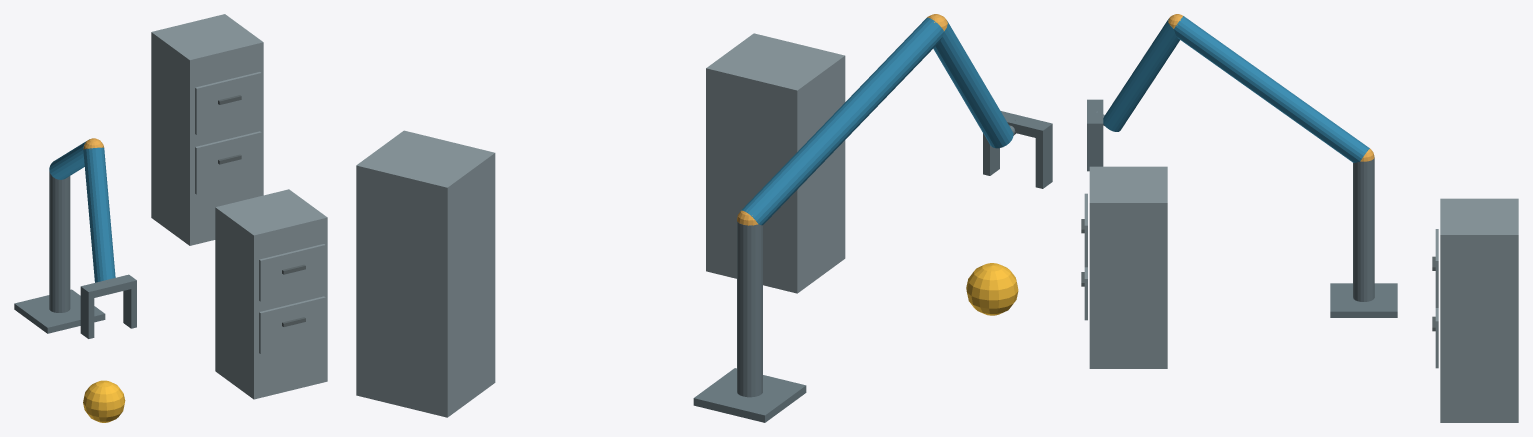
3 renders of one model, left to right at view 1: azimuth 30°, elevation 25°; view 2: azimuth 150°, elevation 25°; view 3: azimuth 270°, elevation 25°, orthographic. The views are drawn at different scales.
Parts seen in each view (by area): view 1: cabinet_2 body, cabinet_1 body, cabinet_2 drawer front, cabinet_2 drawer front.001, fixed post, moving link 2, cabinet_1 drawer front, cabinet_1 drawer front.001, pedestal, ball ball_1, gripper bridge, moving link 1 (+2 smaller); view 2: cabinet_2 body, cabinet_1 body, moving link 1, fixed post, moving link 2, pedestal, ball ball_1, gripper finger -1, gripper bridge; view 3: cabinet_2 body, cabinet_1 body, moving link 1, fixed post, moving link 2, pedestal, gripper finger 1, gripper bridge.
Part boxes in pixels (x1,y1,x2,y2): cabinet_2 body: (151, 14, 263, 245); cabinet_1 body: (215, 189, 327, 399); cabinet_2 drawer front: (195, 131, 261, 194); cabinet_2 drawer front.001: (195, 72, 261, 134); fixed post: (49, 171, 70, 312); moving link 2: (83, 147, 115, 282); cabinet_1 drawer front: (259, 296, 325, 353); cabinet_1 drawer front.001: (259, 244, 325, 301); pedestal: (14, 289, 105, 333); ball ball_1: (83, 380, 125, 422); gripper bridge: (80, 274, 136, 299); moving link 1: (49, 139, 89, 179); cabinet_2 body: (356, 130, 495, 417); cabinet_1 body: (706, 33, 845, 293); moving link 1: (741, 17, 944, 225); fixed post: (737, 221, 762, 397); moving link 2: (933, 21, 1013, 148); pedestal: (693, 368, 806, 422); ball ball_1: (966, 263, 1018, 315); gripper finger -1: (1035, 133, 1052, 188); gripper bridge: (1001, 111, 1052, 139); cabinet_2 body: (1440, 198, 1518, 422); cabinet_1 body: (1089, 166, 1167, 368); moving link 1: (1174, 16, 1369, 162); fixed post: (1353, 157, 1374, 301); moving link 2: (1103, 18, 1179, 131); pedestal: (1330, 283, 1397, 317); gripper finger 1: (1087, 131, 1103, 171); gripper bridge: (1087, 99, 1103, 130).
Size of the model in its own units: 1.52 by 1.06 by 1.62.
